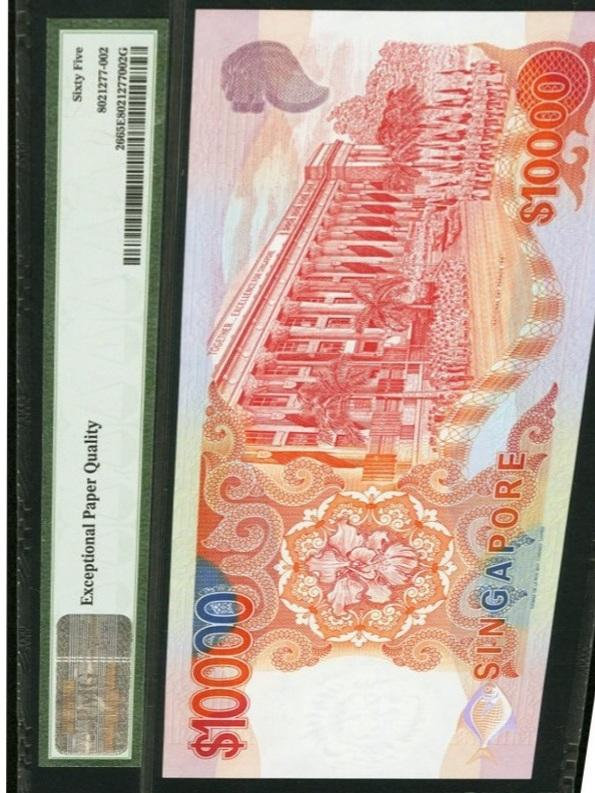10000SingaporeDollar: (199, 14, 595, 773)
